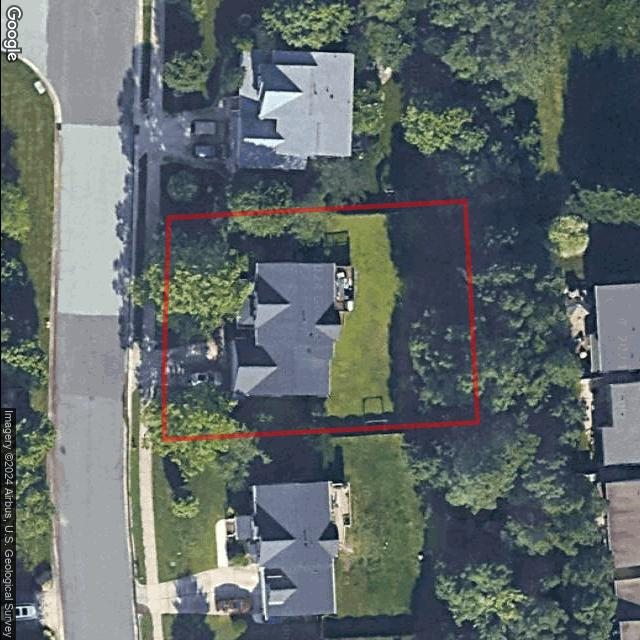Driveway: (162, 339, 229, 398)
Extra-Driveway: (131, 339, 165, 394)
Extra-Lawn: (152, 216, 169, 351), (133, 214, 145, 345), (153, 385, 165, 441), (131, 386, 140, 443)
Extra-Sidewalk: (140, 215, 160, 349), (138, 385, 154, 443)
House: (227, 262, 341, 404)
Lawn: (162, 202, 479, 440)
Other: (335, 265, 356, 311), (361, 418, 387, 424)
